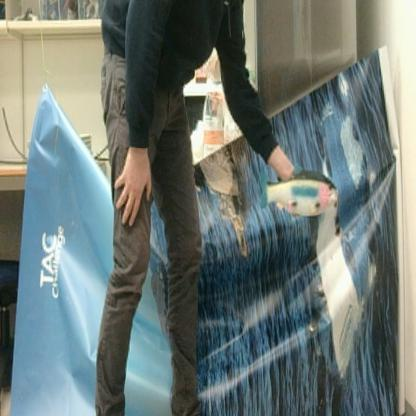rubberfish: (258, 165, 343, 221)
